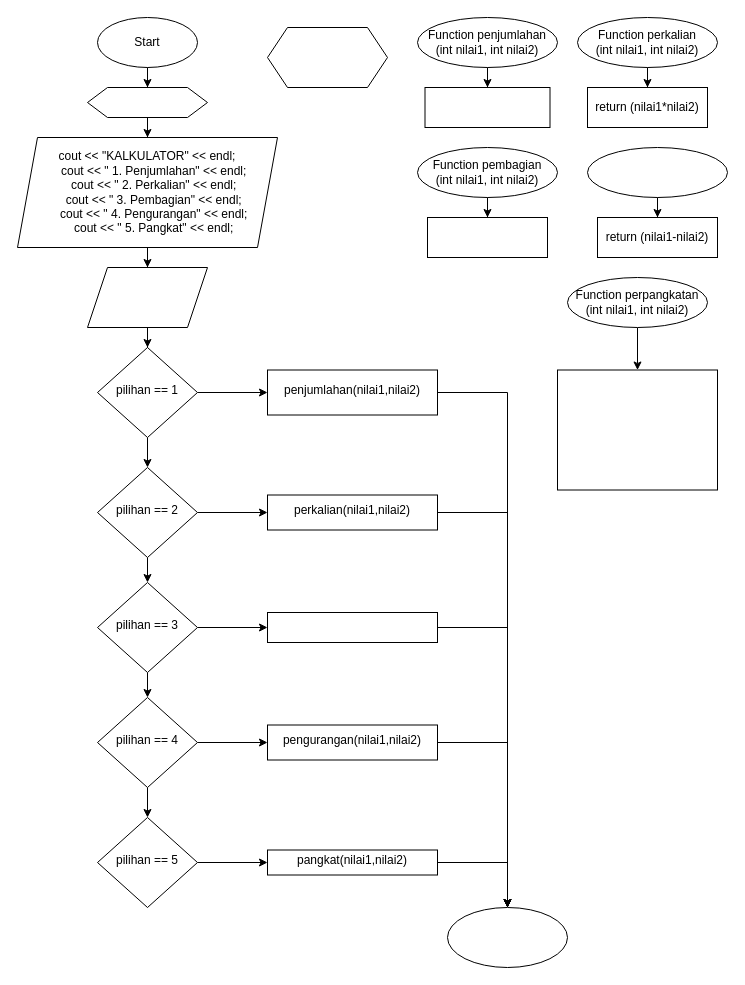
Some shapes in this 745 by 985 pixel diagram are drawn without their labels. Each missing label, with the centre of its shape:
"cin >> pilihan cin >> nilai1 cin >> nilai2" belongs at point (147, 297).
"End" belongs at point (507, 937).
"Function pengurangan (int nilai1, int nilai2)" belongs at point (657, 172).
"if (nilai2==1){ return a; } else { return (a * pangkat(nilai1,nilai2-1));" belongs at point (637, 429).
"int main()" belongs at point (147, 102).
"pembagian(nilai1,nilai2)" belongs at point (352, 627).
"return (nilai1+nilai2)" belongs at point (487, 107).
"return (nilai1/nilai2)" belongs at point (487, 237).
"Variabel Global : int nilai1,nilai2 ,pilihan,hasil" belongs at point (327, 57).
